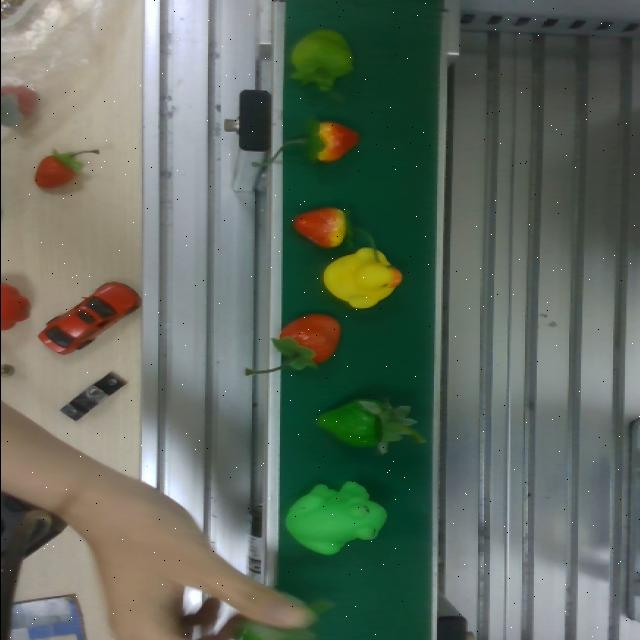None - Strawberry: (277, 474, 397, 560)
Small Ripe Strawberry: (272, 314, 346, 372)
Small Unripe Strawberry: (277, 19, 361, 105), (314, 391, 412, 452), (292, 114, 368, 168), (288, 202, 359, 250)
conveyor: (264, 0, 460, 640)
